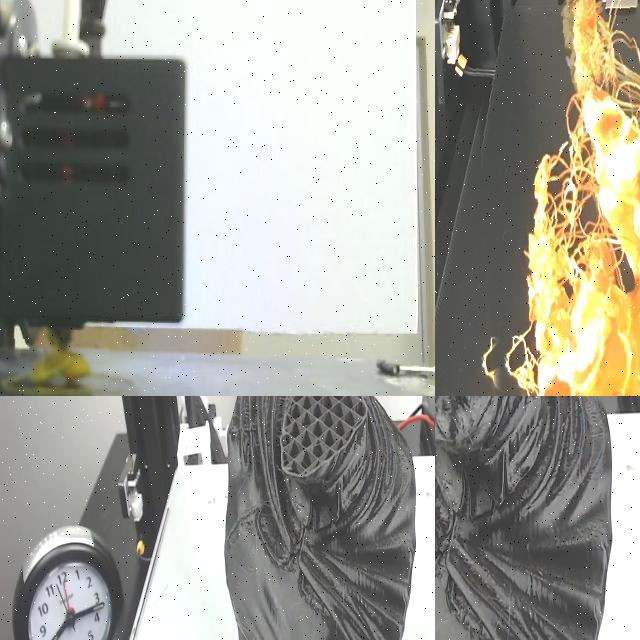spaghetti: (470, 0, 640, 396), (7, 330, 109, 396)
